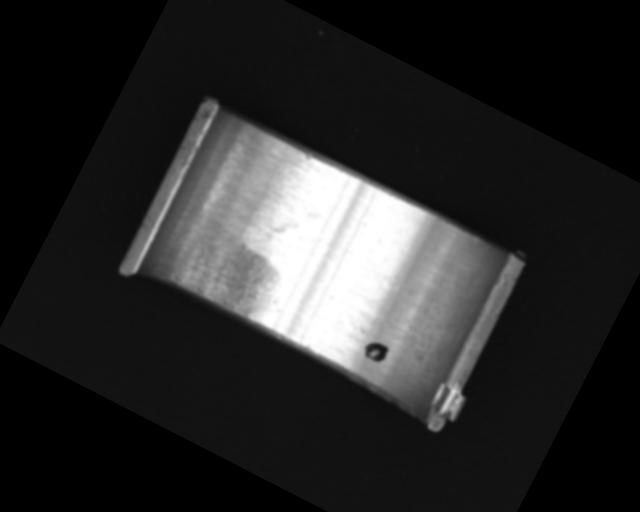blot: (360, 337, 391, 366)
bruise: (301, 150, 314, 162)
scratch: (165, 218, 296, 329)
